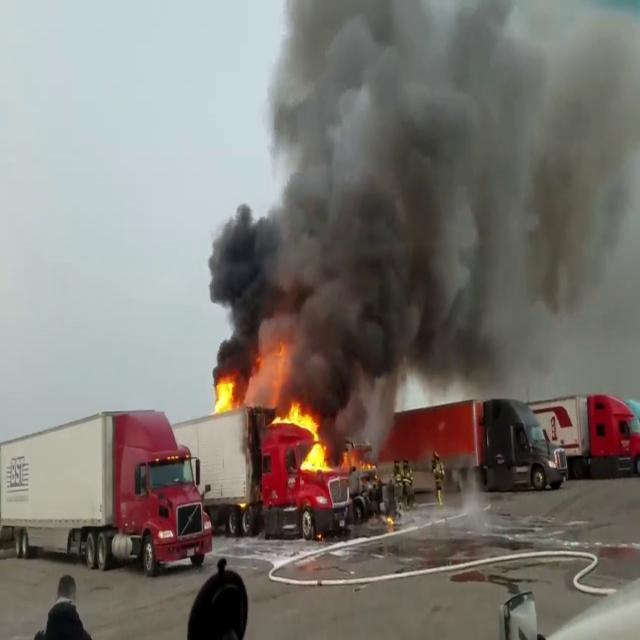Fire: (252, 340, 316, 432), (268, 396, 322, 438), (301, 429, 334, 475), (210, 368, 242, 414)
Smoke: (203, 0, 640, 399)
